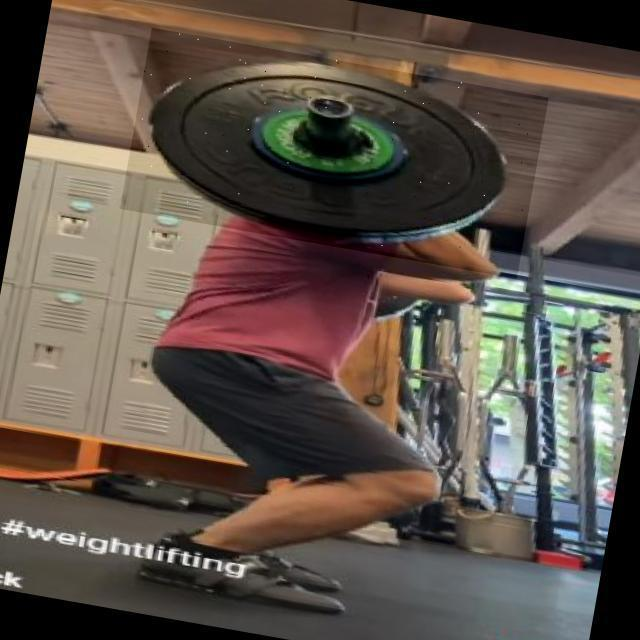barbell: (120, 29, 549, 280)
